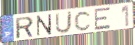1: (120, 4, 130, 29)
C: (74, 10, 93, 32)
E: (93, 6, 111, 31)
N: (36, 14, 53, 38)
R: (15, 15, 35, 40)
U: (55, 11, 73, 35)
